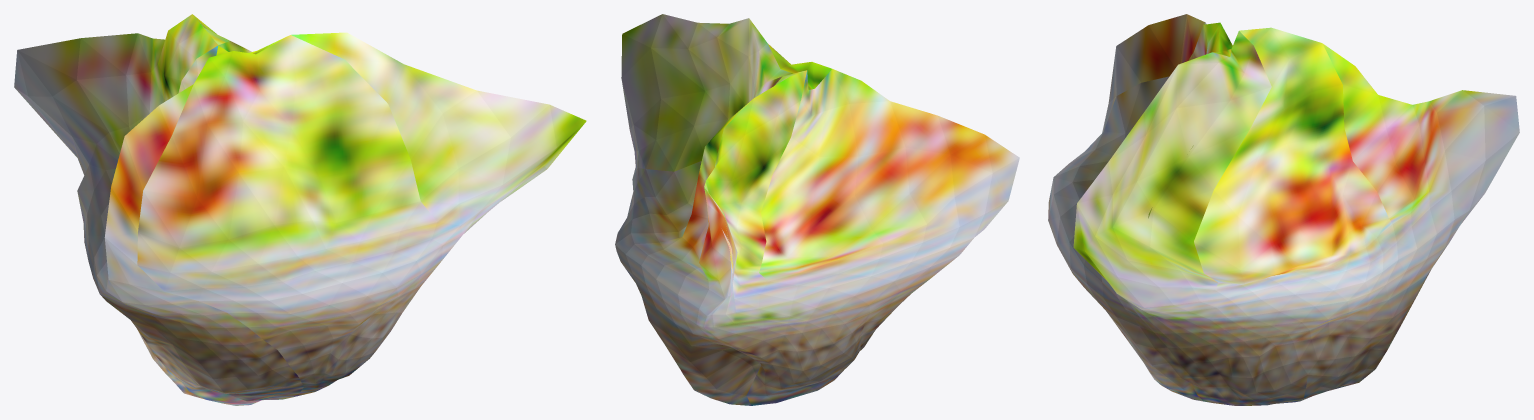
Rendered from chipotle_bowl.gltf.
3 views of the same model, side by side, from view 1: azimuth 30°, elevation 25°; view 2: azimuth 150°, elevation 25°; view 3: azimuth 270°, elevation 25° (orthographic). The views are drawn at different scales.
Visible parts, largest first — view 1: pMesh1; view 2: pMesh1; view 3: pMesh1.
Boxes of the visible parts, left/top/right/bottom form: pMesh1: left=14, top=14, right=586, bottom=405; pMesh1: left=615, top=14, right=1019, bottom=405; pMesh1: left=1048, top=14, right=1519, bottom=405.
Bounding box in the file's own units: 3.29 × 2.49 × 2.98.
Materials: 1 (1 with a texture image).
